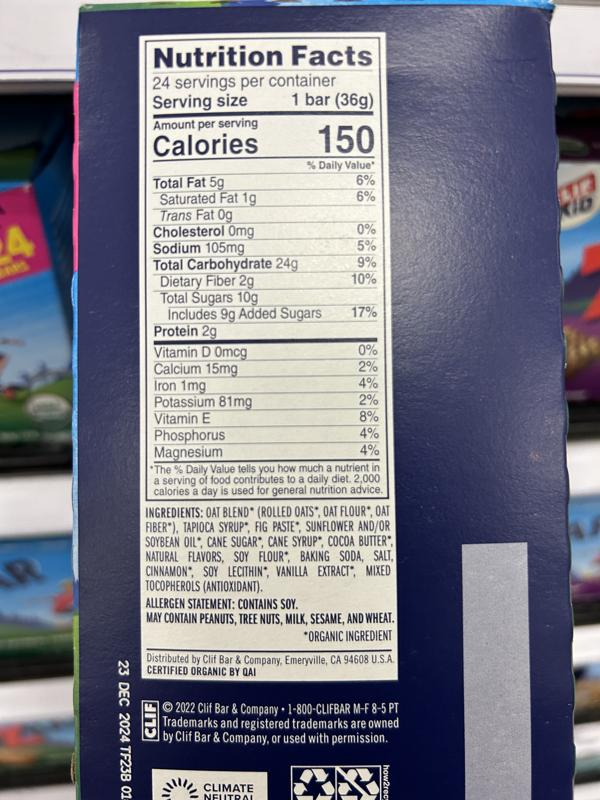ingredients: (143, 503, 394, 593)
